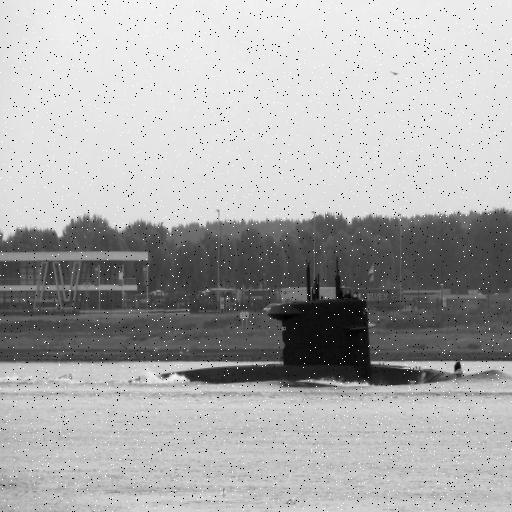submarine: (58, 258, 512, 382)
